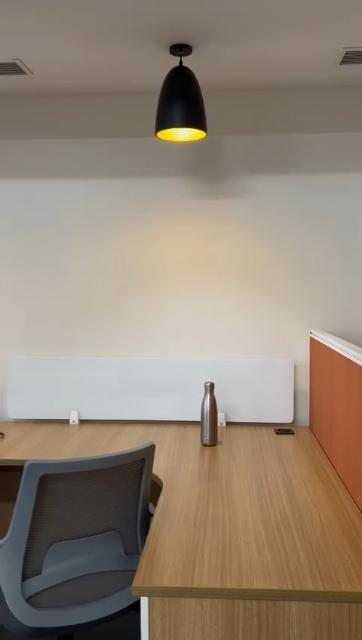object: (16, 442, 148, 640), (190, 370, 233, 456)
wall: (101, 158, 303, 344), (1, 99, 149, 347), (214, 91, 361, 326), (36, 3, 152, 109), (207, 2, 335, 96)
